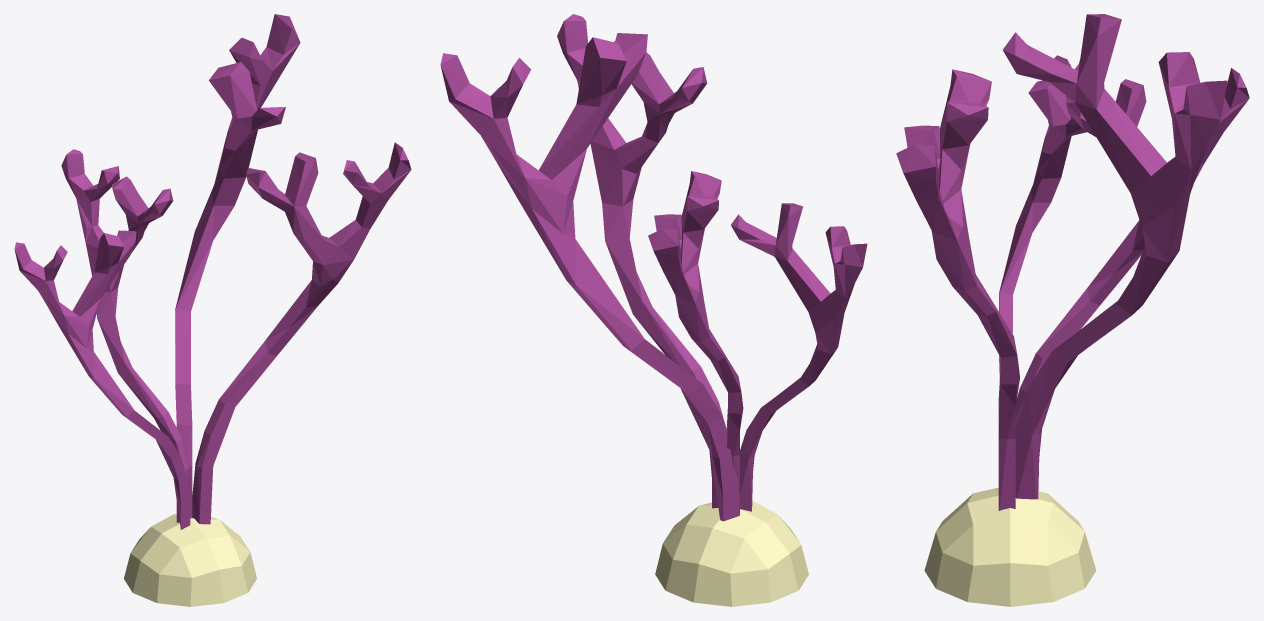
Rendered from Coral-2.glb.
3 renders of one model, left to right at view 1: azimuth 30°, elevation 25°; view 2: azimuth 150°, elevation 25°; view 3: azimuth 270°, elevation 25°, orthographic. The views are drawn at different scales.
Parts seen in each view (by area): view 1: Coral_017; view 2: Coral_017; view 3: Coral_017.
Boxes of the visible parts, x1=… form: Coral_017: x1=14, y1=14, x2=411, y2=606; Coral_017: x1=440, y1=14, x2=867, y2=606; Coral_017: x1=896, y1=14, x2=1249, y2=606.
Size of what is drawn, in the model's own units: 0.7156 by 0.9827 by 0.519.
1 material, 1 textured.
